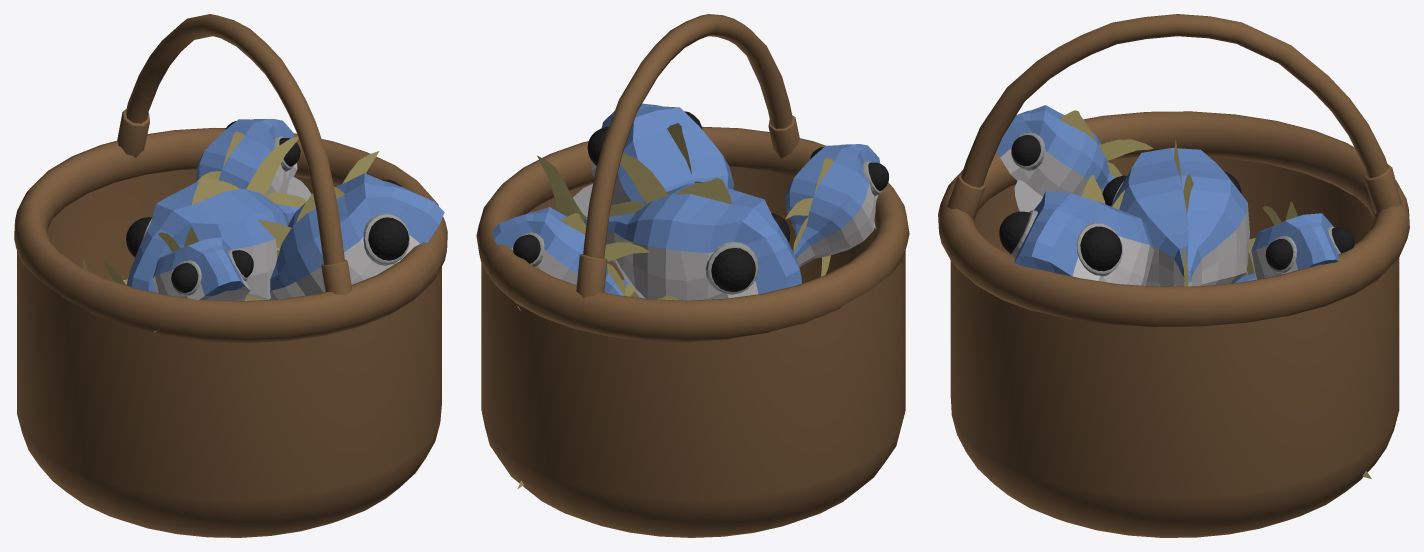
Rendered from canasta.fbx.
3 renders of one model, left to right at view 1: azimuth 30°, elevation 25°; view 2: azimuth 150°, elevation 25°; view 3: azimuth 270°, elevation 25°, orthographic. The views are drawn at different scales.
Visible parts, largest first — view 1: t_base_color-material, Tuna.007, Tuna.004, Tuna.005, Tuna.006; view 2: t_base_color-material, Tuna.004, Tuna.005, Tuna.007, Tuna.006; view 3: t_base_color-material, Tuna.004, Tuna.007, Tuna.005, Tuna.006.
Boxes of the visible parts, box(x1,y1,x2,y2) form: t_base_color-material: box(14, 14, 447, 537); Tuna.007: box(257, 173, 444, 299); Tuna.004: box(126, 136, 379, 301); Tuna.005: box(152, 227, 269, 332); Tuna.006: box(196, 119, 311, 201); t_base_color-material: box(476, 14, 909, 537); Tuna.004: box(537, 153, 801, 300); Tuna.005: box(785, 144, 888, 276); Tuna.007: box(573, 103, 733, 216); Tuna.006: box(492, 207, 676, 310); t_base_color-material: box(938, 14, 1409, 537); Tuna.004: box(1102, 140, 1250, 286); Tuna.007: box(999, 175, 1154, 285); Tuna.005: box(996, 105, 1153, 212); Tuna.006: box(1250, 201, 1354, 279).
Bounding box in the file's own units: 89.57 × 102 × 94.07.
